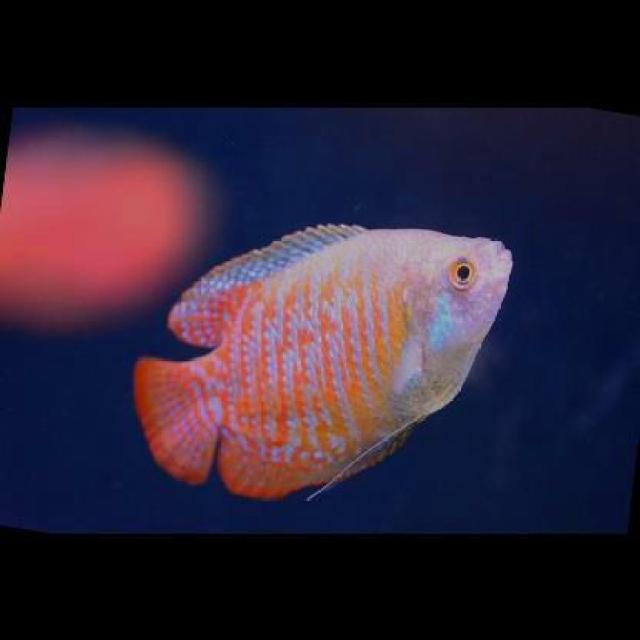Gourami: (133, 222, 507, 486)
